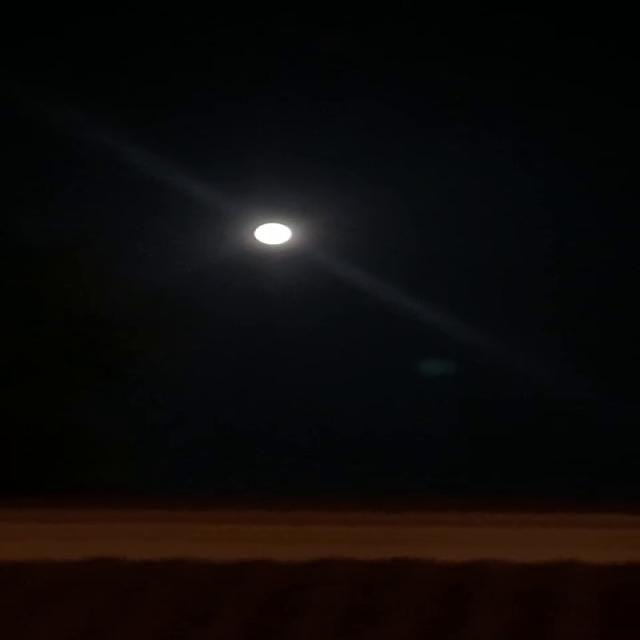moon: (246, 218, 298, 250)
